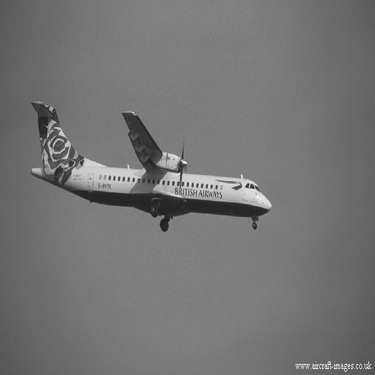airplane: (21, 90, 278, 232)
